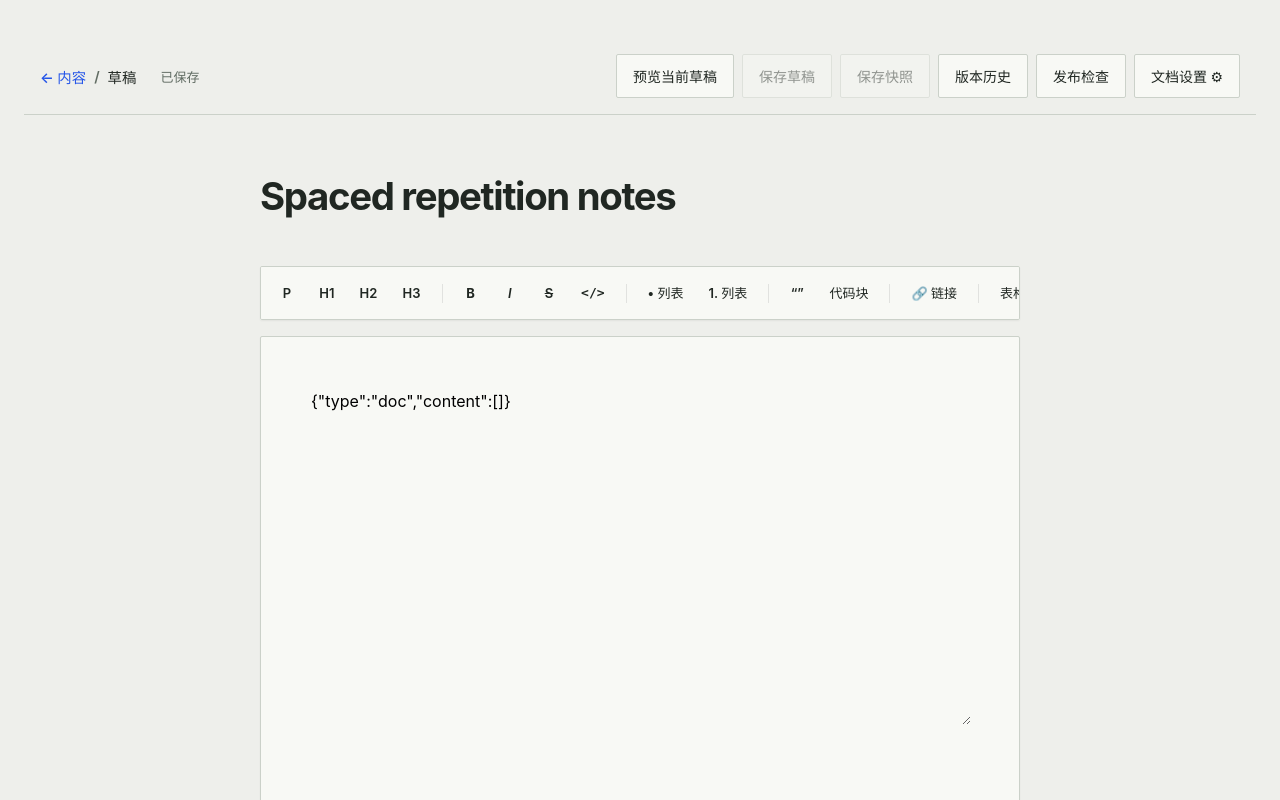
Test: EditorPage presentation › supports toggling settings drawer and keyboard Escape closing
The image size is (1280, 800).
Note: Click to open
Click the button with aria-label "文章设置" at point(1187, 76), box x1=1134 y1=54 x2=1240 y2=98
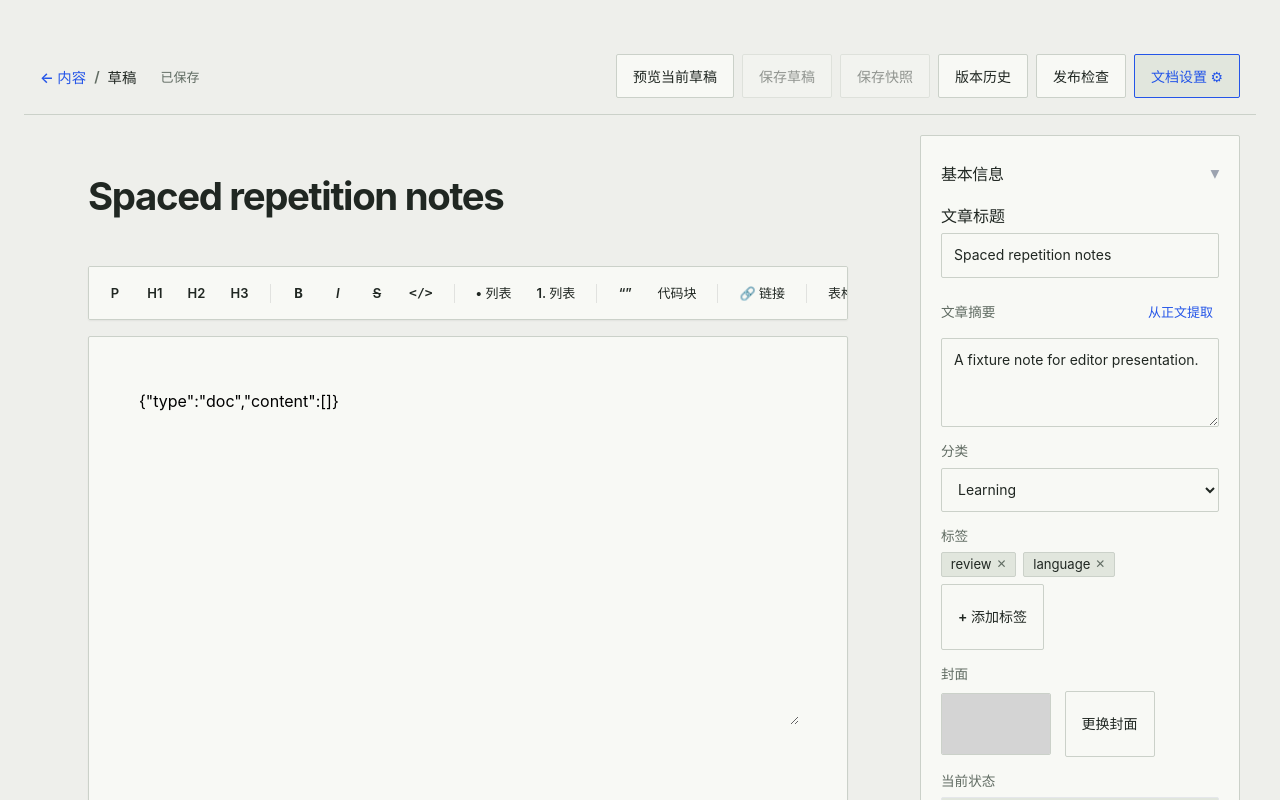
Expected: the button with aria-label "文章设置" is expanded, x1=1134 y1=54 x2=1240 y2=98
Note: Press Escape to close
Press Escape
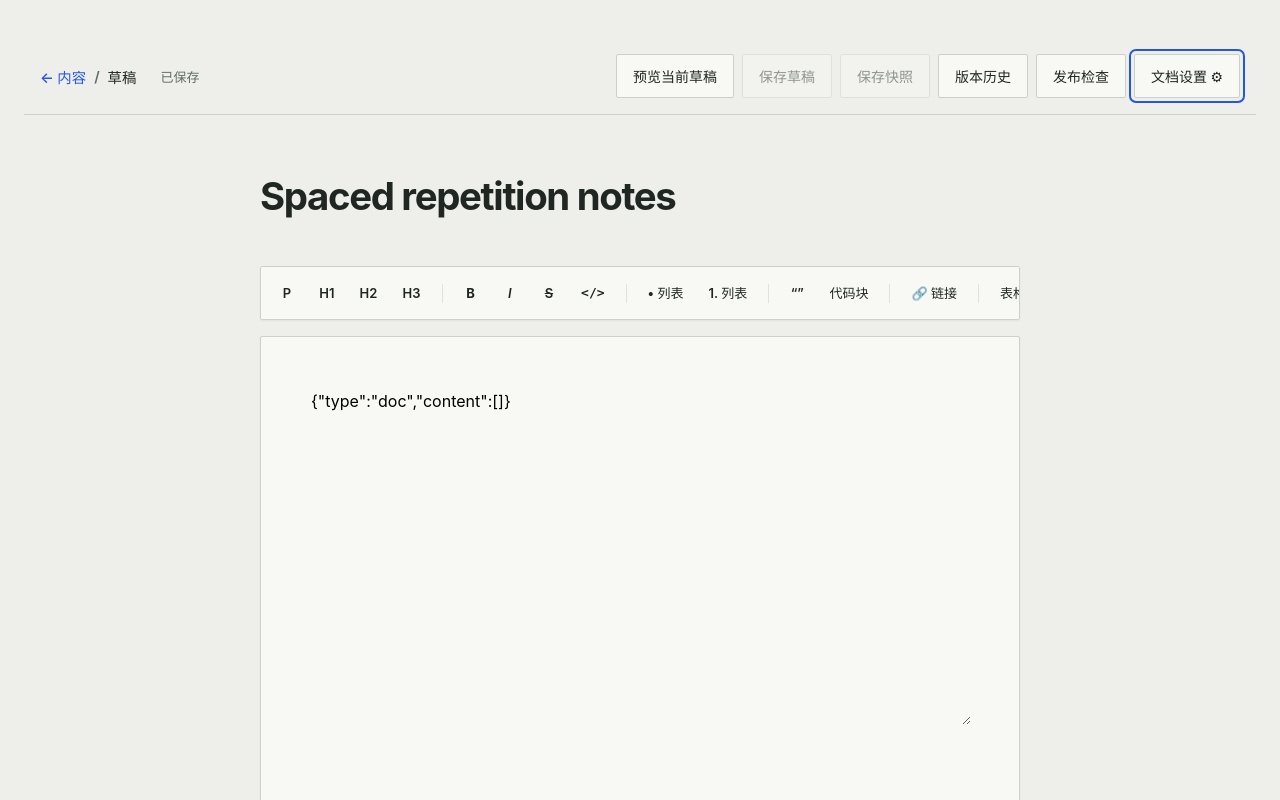
Expected: the button with aria-label "文章设置" is collapsed, x1=1134 y1=54 x2=1240 y2=98
